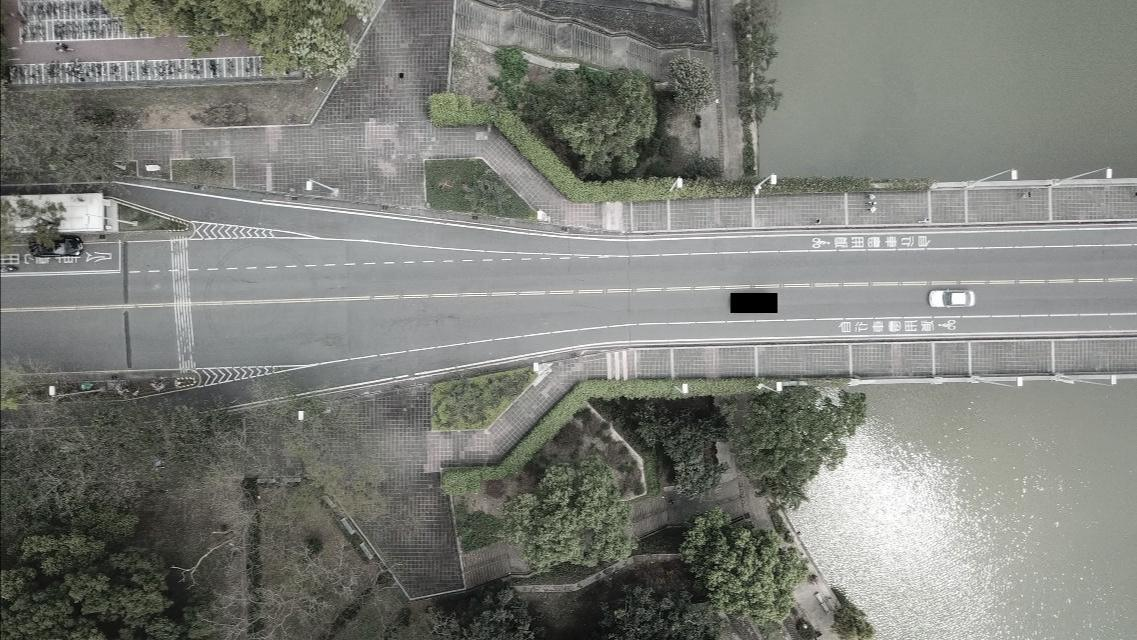vehicle: (28, 235, 83, 258), (928, 288, 974, 309)
